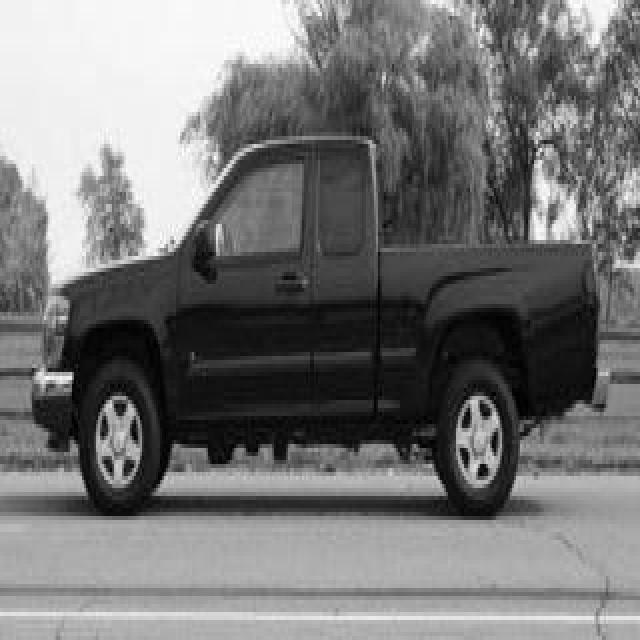Car: (31, 140, 600, 514)
